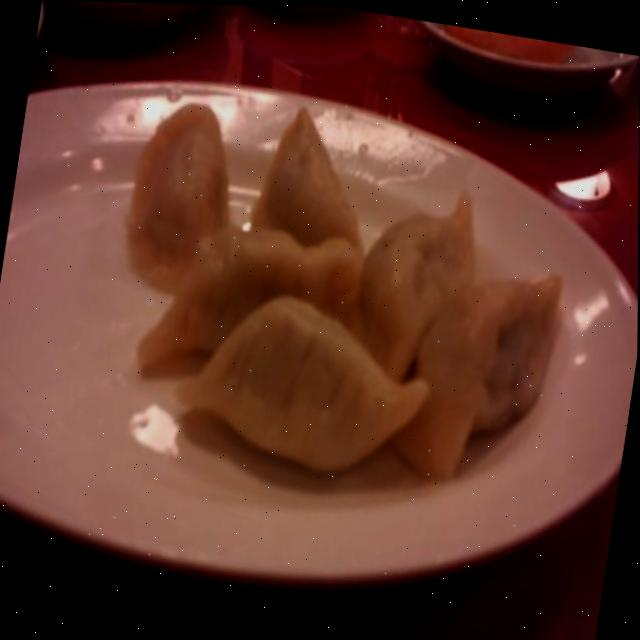带馅早点: (8, 31, 627, 567)
